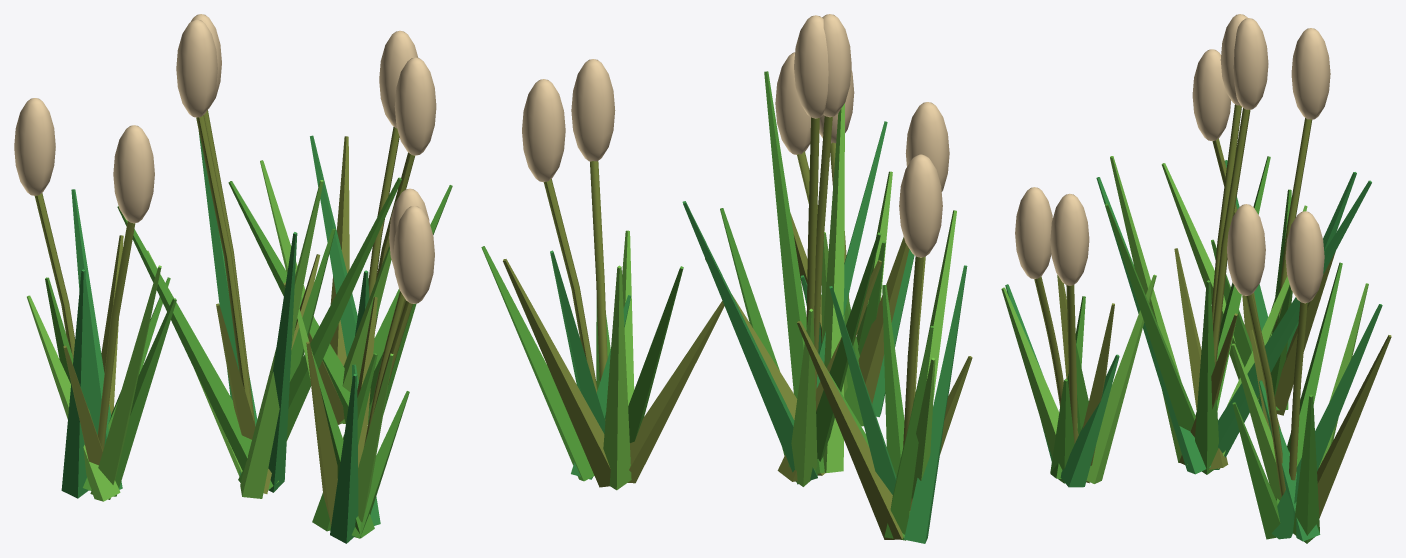
File: touceira_grama.glb
3 renders of one model, left to right at view 1: azimuth 30°, elevation 25°; view 2: azimuth 150°, elevation 25°; view 3: azimuth 270°, elevation 25°, orthographic. The views are drawn at different scales.
Visible parts, largest first — view 1: touceira_grama; view 2: touceira_grama; view 3: touceira_grama.
Part boxes in pixels (x1,y1,x2,y2): touceira_grama: [14, 14, 452, 543]; touceira_grama: [481, 14, 972, 543]; touceira_grama: [1001, 14, 1391, 543].
Size of the model in its own units: 0.9607 by 0.9873 by 0.7984.
Materials: 1 (1 with a texture image).
